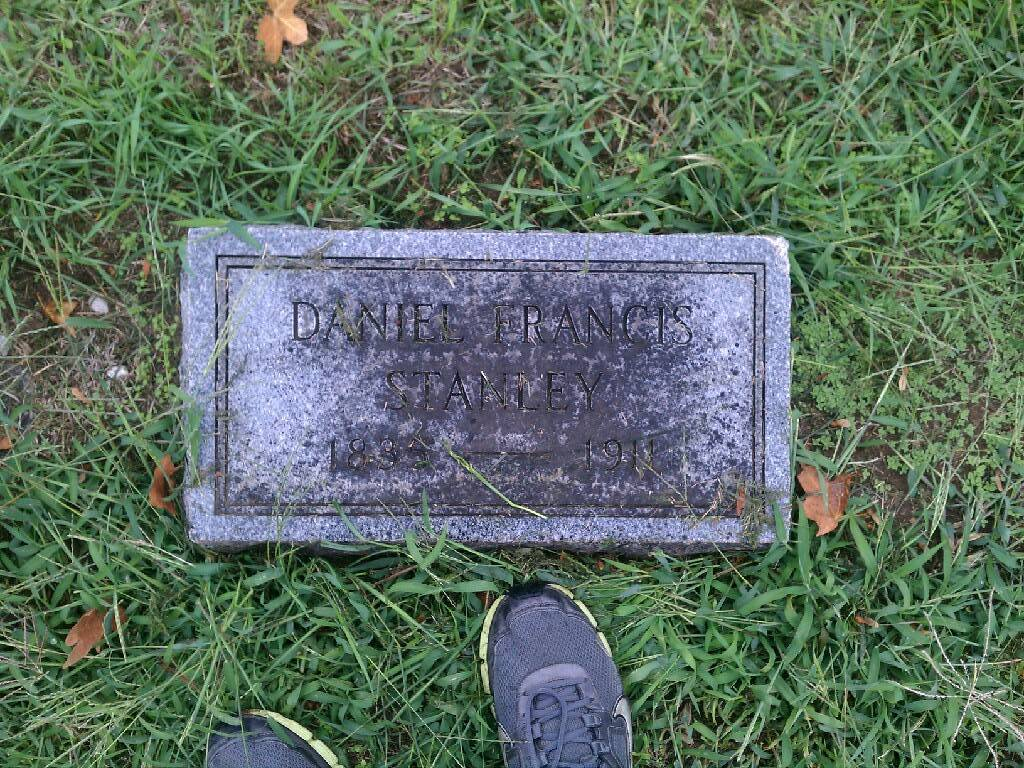flat: (173, 220, 801, 559)
